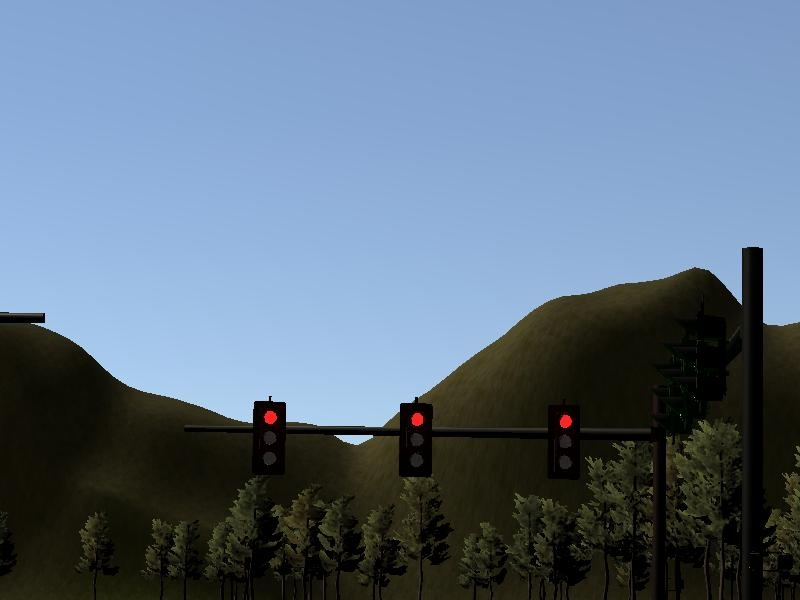traffic_light_red: (240, 397, 635, 480)
